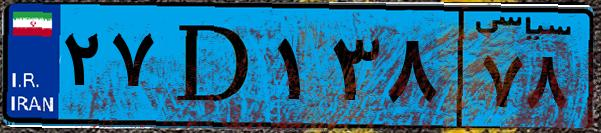1: (270, 28, 330, 110)
2: (57, 26, 110, 100)
3: (330, 28, 385, 110)
7: (475, 38, 525, 113), (110, 28, 158, 98)
8: (385, 28, 445, 110), (525, 38, 570, 115)
D: (158, 12, 270, 120)
